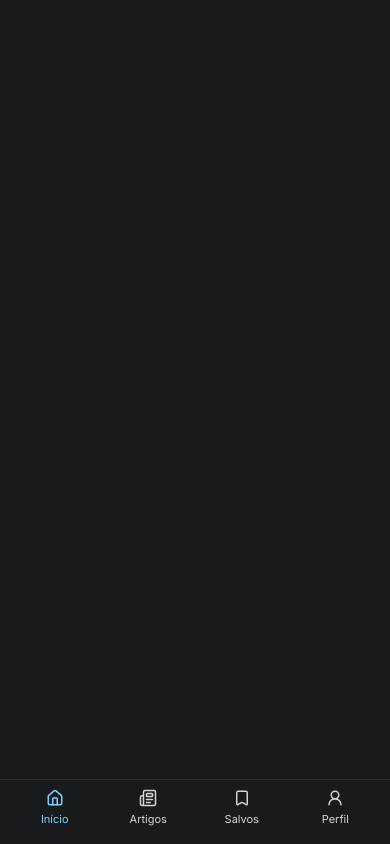
MobileNavigation › orienta o visitante a entrar antes de acessar os artigos salvos
Click the link "Salvos": click(242, 807) [225, 789, 259, 826]
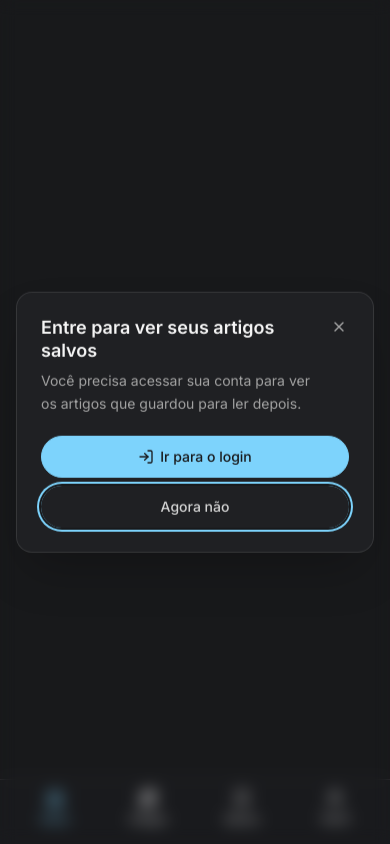
expect the heading "Entre para ver seus artigos salvos" is shown: met, box [41, 317, 274, 360]
expect the text "Você precisa acessar sua conta" is shown: met, box [41, 372, 310, 412]
